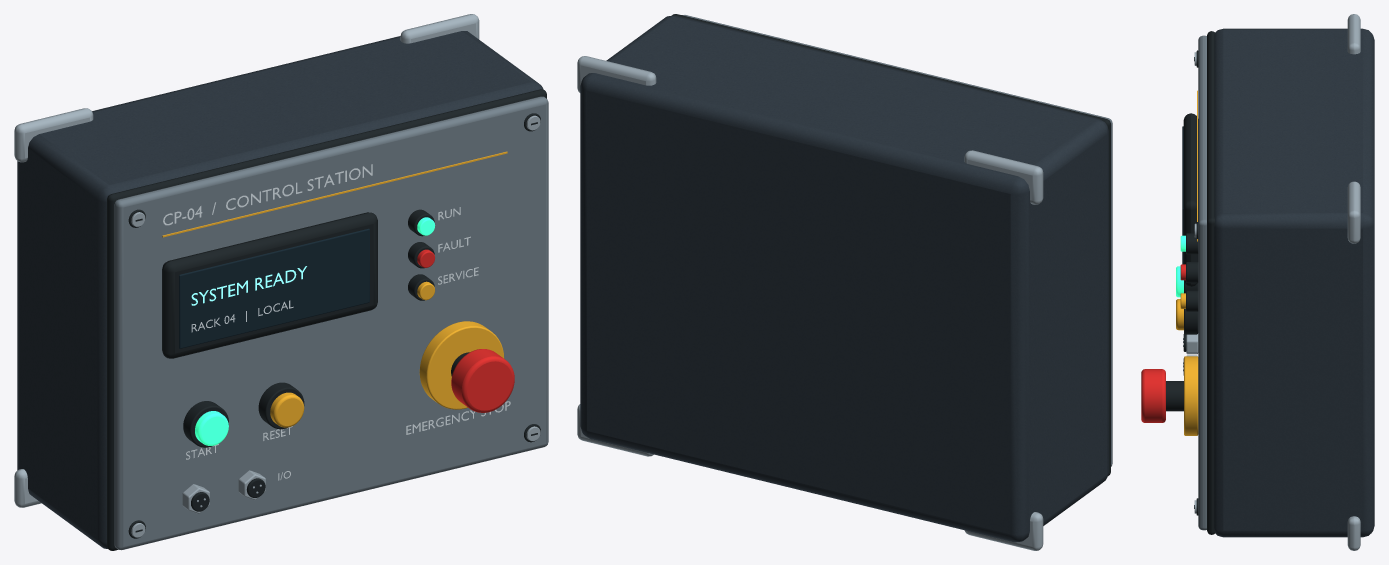
The picture shows the model from 3 angles, left to right: view 1: azimuth 30°, elevation 25°; view 2: azimuth 150°, elevation 25°; view 3: azimuth 270°, elevation 25°; orthographic projection. The views are drawn at different scales.
Visible parts, largest first — view 1: Removable front fascia, Die-cast rear enclosure, Display lens, Display bezel, Faceplate perimeter gasket, Emergency stop safety collar, Emergency stop mushroom, Enclosure mounting tab.001, Enclosure mounting tab.003, Legend | CP-04 / CONTROL STATION, RESET button, Header rule (+4 smaller); view 2: Die-cast rear enclosure, Faceplate perimeter gasket, Enclosure mounting tab.001, Removable front fascia, Enclosure mounting tab.003, Enclosure mounting tab; view 3: Die-cast rear enclosure, Removable front fascia, Faceplate perimeter gasket, Display bezel, Emergency stop mushroom, Emergency stop safety collar, Enclosure mounting tab.003, Emergency stop stem, Enclosure mounting tab.001, Enclosure mounting tab.002, Switch retaining nut.001.
Boxes of the visible parts, x1,y1,x2,y2 form: Removable front fascia: (114, 96, 548, 550); Die-cast rear enclosure: (17, 31, 543, 548); Display lens: (179, 228, 369, 348); Display bezel: (162, 212, 377, 358); Faceplate perimeter gasket: (107, 89, 546, 550); Emergency stop safety collar: (419, 321, 504, 409); Emergency stop mushroom: (451, 349, 514, 412); Enclosure mounting tab.001: (14, 108, 93, 162); Enclosure mounting tab.003: (400, 14, 479, 43); Legend | CP-04 / CONTROL STATION: (163, 164, 372, 225); RESET button: (270, 392, 304, 427); Header rule: (162, 151, 507, 237); Die-cast rear enclosure: (580, 15, 1108, 542); Faceplate perimeter gasket: (672, 14, 1110, 475); Enclosure mounting tab.001: (964, 150, 1043, 204); Removable front fascia: (682, 15, 1112, 466); Enclosure mounting tab.003: (577, 56, 656, 92); Enclosure mounting tab: (964, 512, 1043, 550); Die-cast rear enclosure: (1214, 28, 1374, 537); Removable front fascia: (1198, 35, 1206, 530); Faceplate perimeter gasket: (1207, 31, 1214, 534); Display bezel: (1183, 113, 1198, 286); Emergency stop mushroom: (1141, 369, 1165, 422); Emergency stop safety collar: (1184, 356, 1198, 435); Enclosure mounting tab.003: (1347, 181, 1360, 243); Emergency stop stem: (1166, 381, 1183, 411); Enclosure mounting tab.001: (1347, 14, 1360, 54); Enclosure mounting tab.002: (1347, 516, 1360, 550); Switch retaining nut.001: (1184, 309, 1198, 334).
Size of the model in its own units: 0.405 by 0.32 by 0.199.
Materials: 10 (1 with a texture image).
